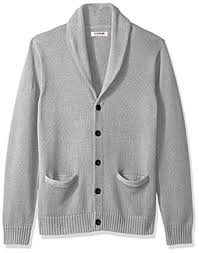S_cardigan sweater: (10, 15, 199, 224)
